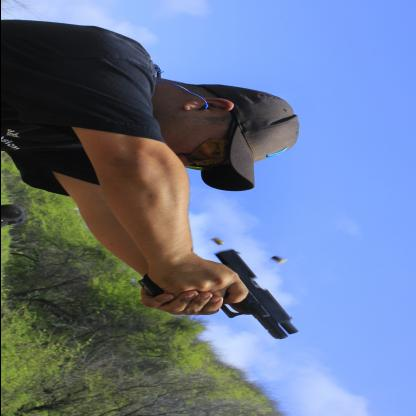billete: (152, 244, 312, 348)
